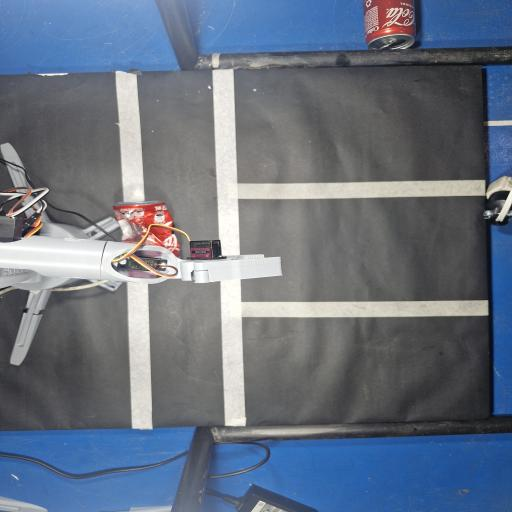lata_defectuoso: (113, 202, 180, 256)
